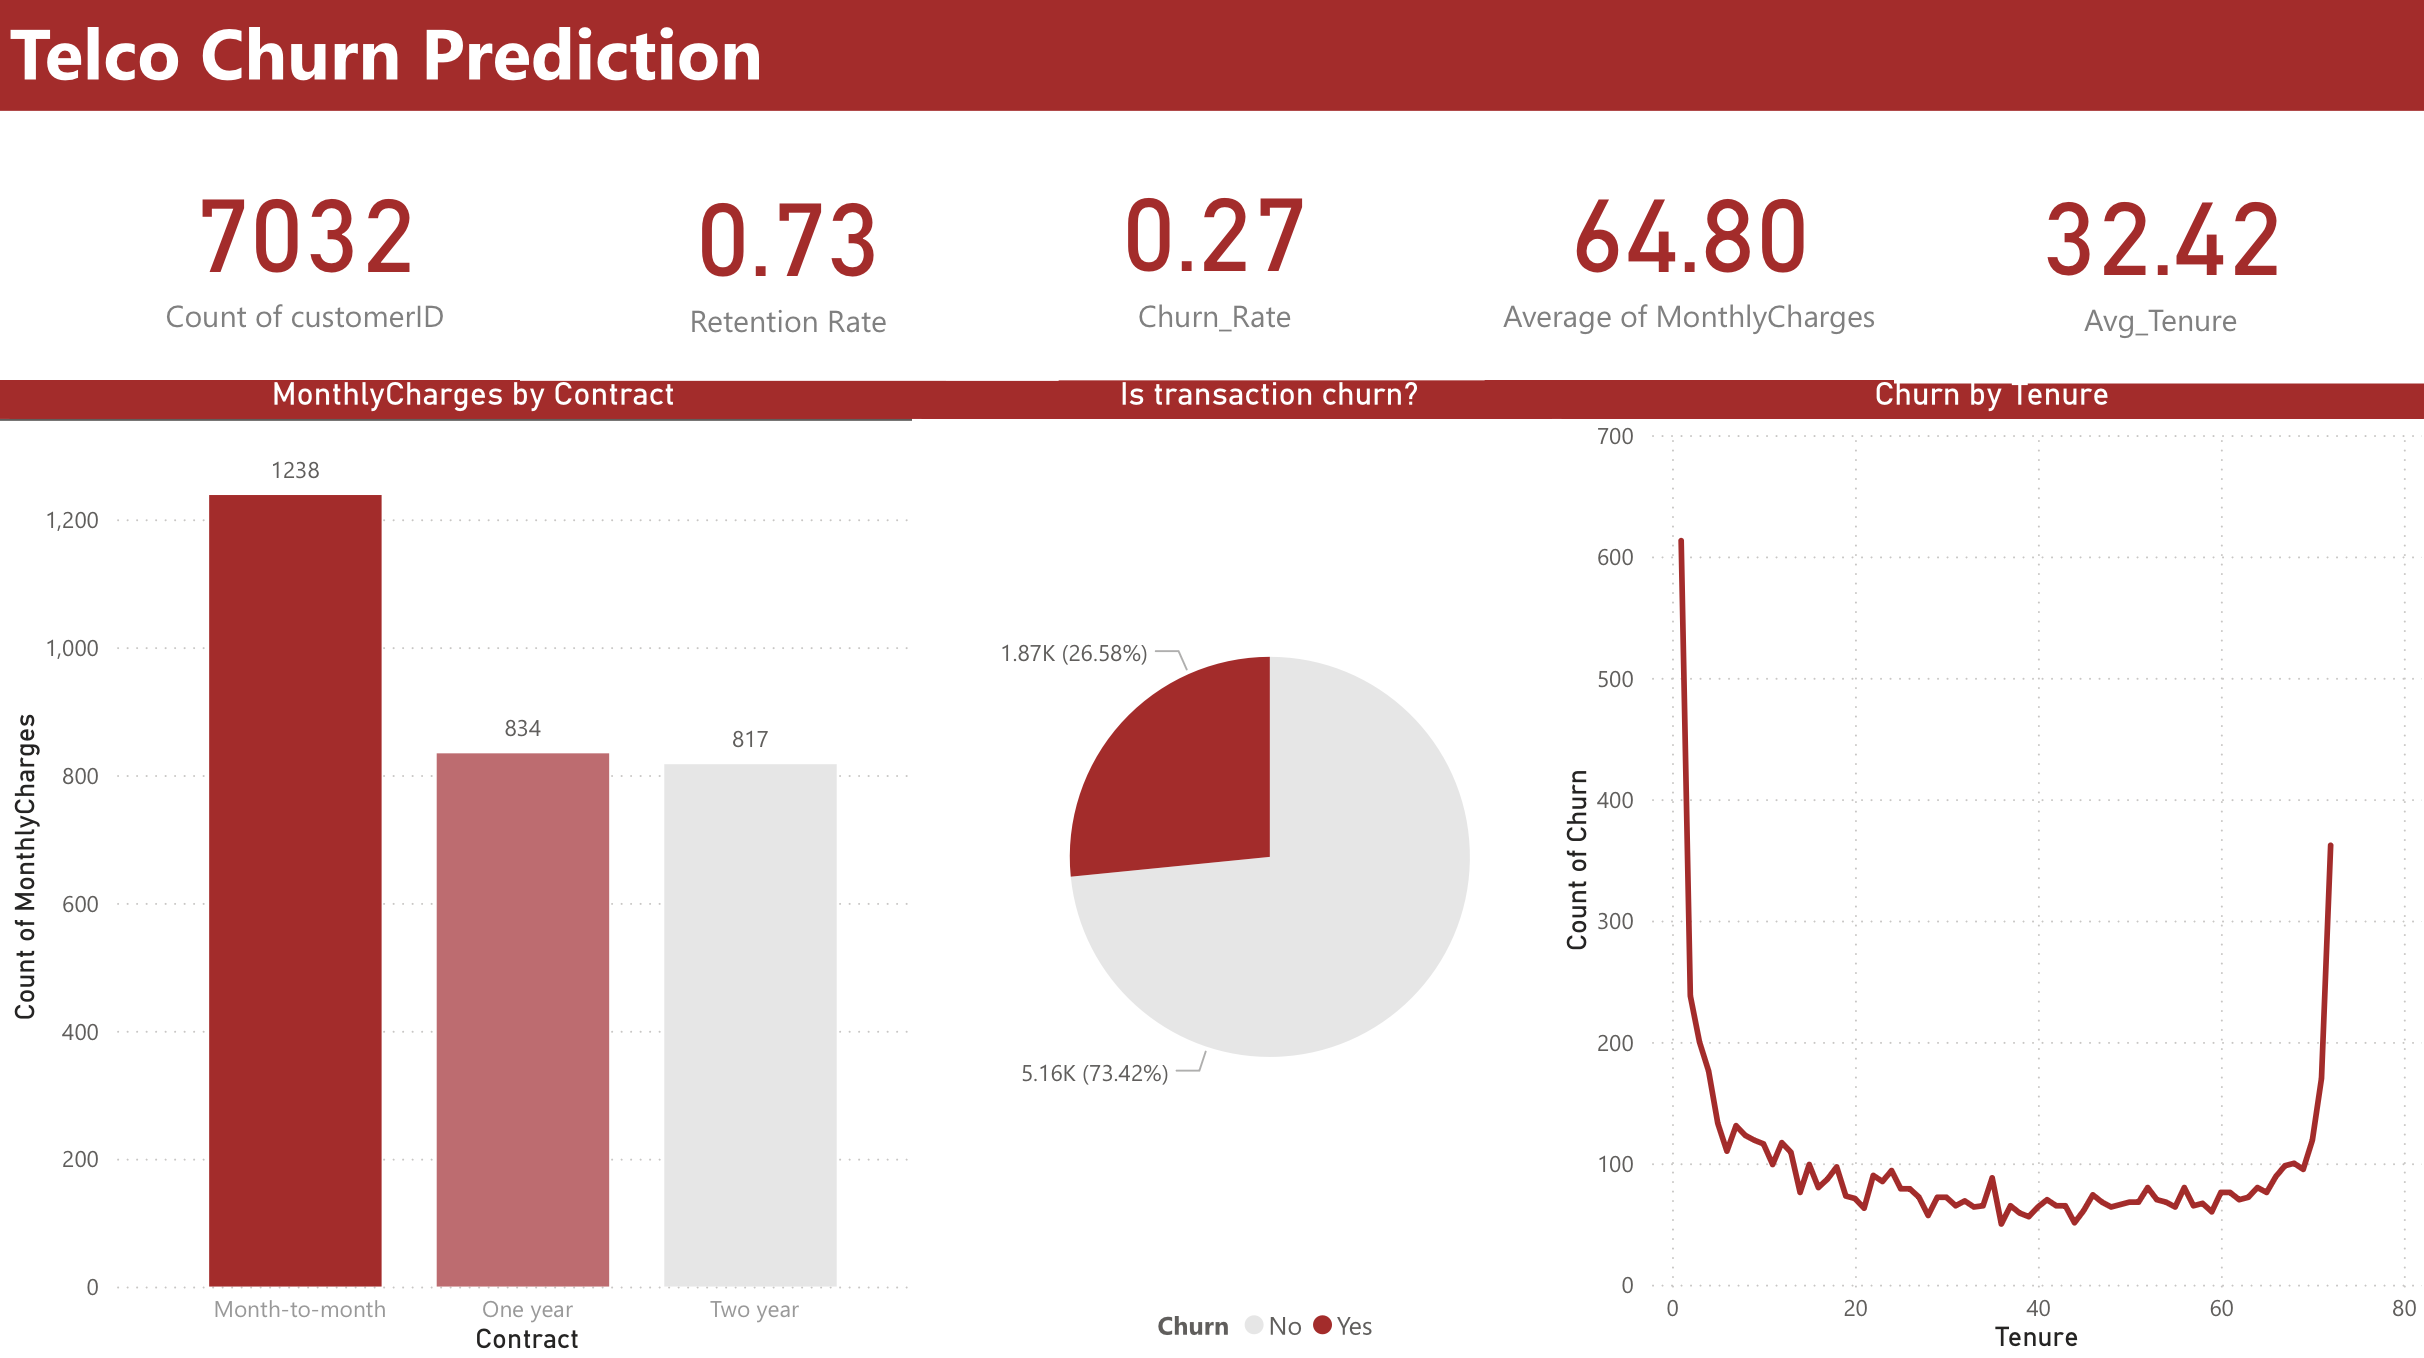

The dashboard page shown, as its layout file describes it:
{"tool":"powerbi","page":{"name":"Page 1","canvas":[1280,720],"ordinal":0},"visuals":[{"type":"actionButton","box":[0,0,100,40],"z":0},{"type":"columnChart","title":"MonthlyCharges by Contract","fields":{"Category":["cleaned_telco.Contract"],"Y":["Count(cleaned_telco.MonthlyCharges)"]},"box":[0,203.3,498.3,516.7],"z":1000},{"type":"pieChart","title":"Is transaction churn?","fields":{"Y":["CountNonNull(cleaned_telco.Churn)"],"Series":["cleaned_telco.Churn"]},"box":[480,203.3,376.7,516.7],"z":2000},{"type":"lineChart","title":"Churn by Tenure","fields":{"Category":["cleaned_telco.Tenure"],"Y":["CountNonNull(cleaned_telco.Churn)"]},"box":[816.7,203.3,463.3,516.7],"z":3000},{"type":"card","fields":{"Values":["Count(cleaned_telco.customerID)"]},"box":[0,61.7,321.7,136.7],"z":4000},{"type":"card","fields":{"Values":["cleaned_telco.Churn_Rate"]},"box":[498.3,56.7,283.3,146.7],"z":5000},{"type":"card","fields":{"Values":["cleaned_telco.Retention Rate"]},"box":[273.3,61.7,283.3,141.7],"z":6000},{"type":"card","fields":{"Values":["cleaned_telco.Avg_Tenure"]},"box":[996.7,60,283.3,145],"z":7000},{"type":"card","fields":{"Values":["Avg(cleaned_telco.MonthlyCharges)"]},"box":[746.7,61.7,286.7,136.7],"z":8000},{"type":"textbox","box":[0,0,1280,61.7],"z":8001}]}

Visuals, with their boxes in screenshot pixels (x1, y1, x2, y2), scaled from the page's 1280x720 canvas onto the 2424x1358 screenshot:
actionButton: 0 0 189 75
"MonthlyCharges by Contract" columnChart: 0 383 944 1357
"Is transaction churn?" pieChart: 909 383 1622 1357
"Churn by Tenure" lineChart: 1547 383 2423 1357
card - Count(cleaned_telco.customerID): 0 116 609 374
card - cleaned_telco.Churn_Rate: 944 107 1480 384
card - cleaned_telco.Retention Rate: 518 116 1054 384
card - cleaned_telco.Avg_Tenure: 1888 113 2423 387
card - Avg(cleaned_telco.MonthlyCharges): 1414 116 1957 374
textbox: 0 0 2423 116
